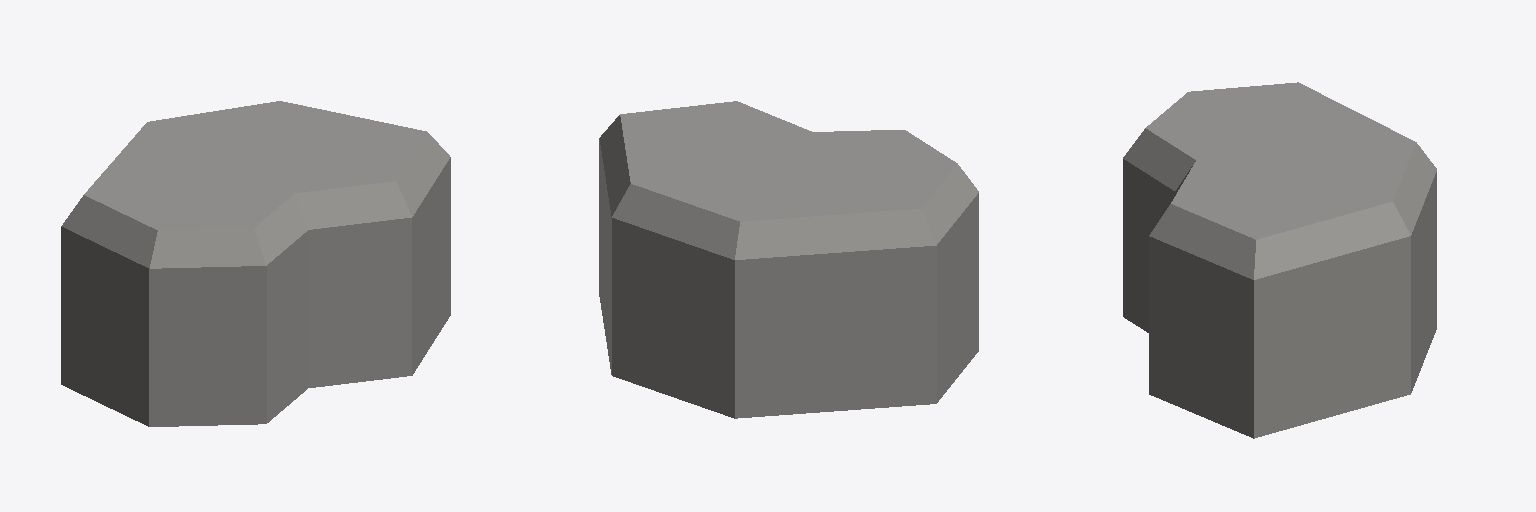
The model's file is Hilly_Prop_Stepping_Stones_6.obj.
The picture shows the model from 3 angles: view 1: azimuth 30°, elevation 25°; view 2: azimuth 150°, elevation 25°; view 3: azimuth 270°, elevation 25°; orthographic projection.
Visible parts, largest first — view 1: object1; view 2: object1; view 3: object1.
Boxes of the visible parts, x1=… form: object1: x1=61, y1=101, x2=450, y2=426; object1: x1=599, y1=101, x2=978, y2=418; object1: x1=1123, y1=82, x2=1436, y2=438.
Bounding box in the file's own units: 0.48 × 0.2375 × 0.36.